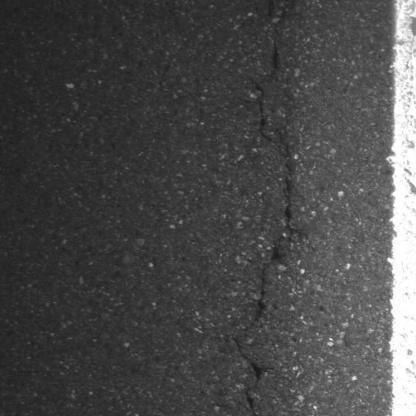Cracks: (227, 35, 309, 416)
